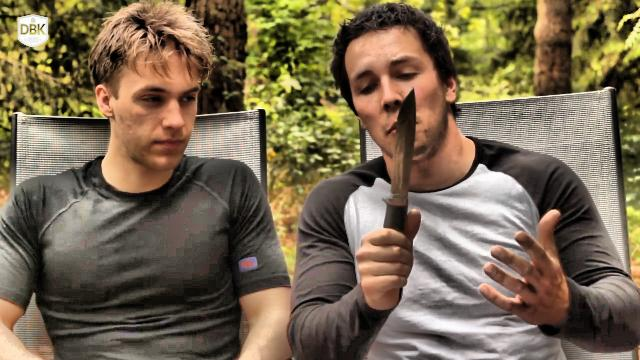knife: (358, 76, 427, 284)
